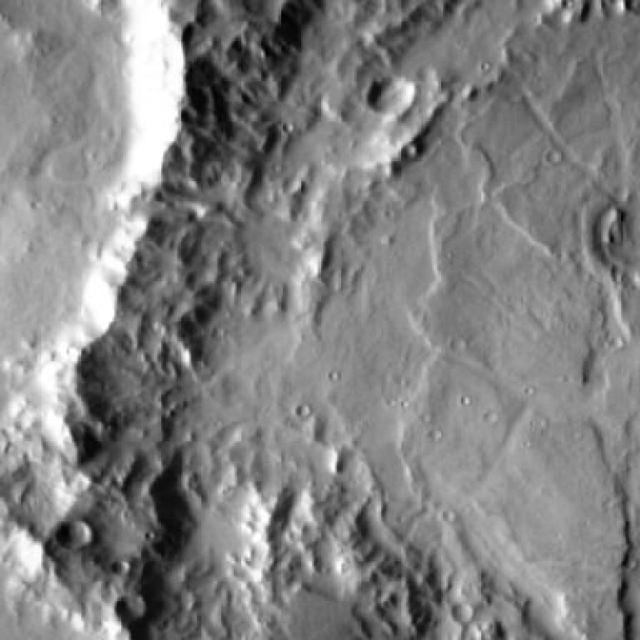crater: (365, 82, 418, 126), (64, 522, 95, 548), (122, 598, 150, 622)
